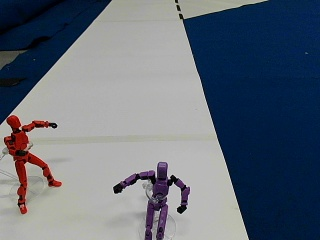pedestrian: (111, 162, 188, 235), (4, 116, 60, 210)
